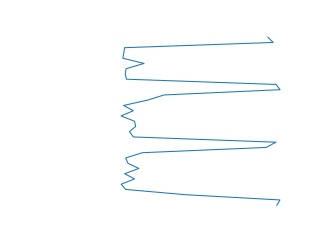majorRiverChannelBar: (117, 35, 284, 208)
